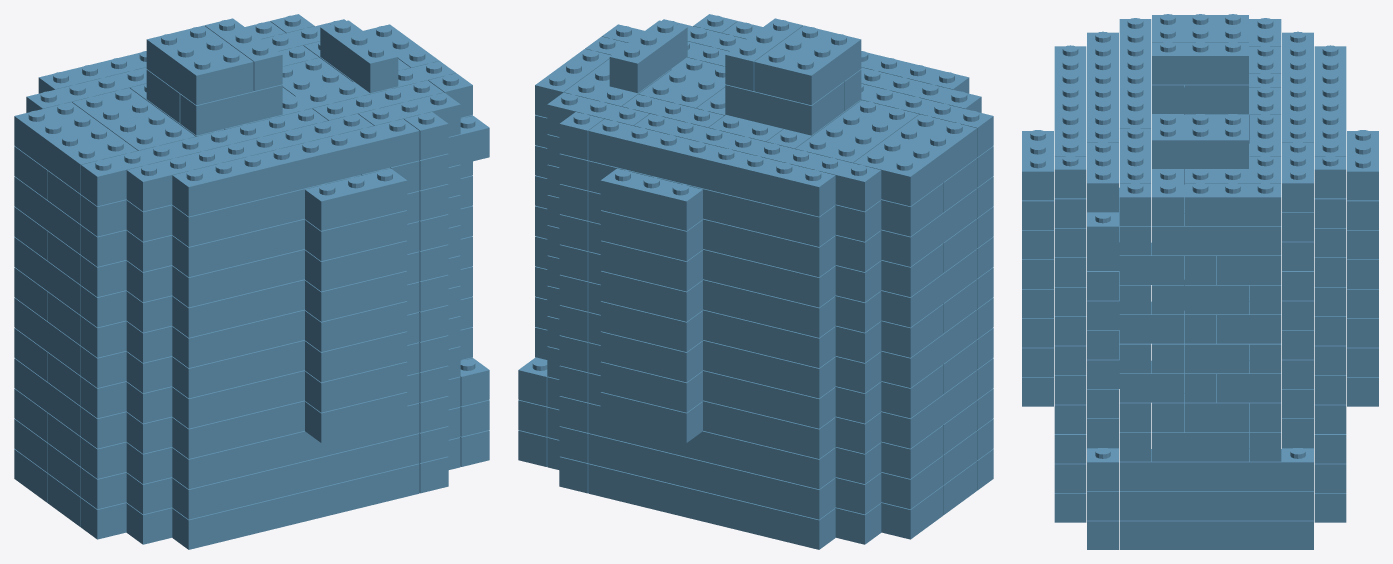
File: collab_camera-L1-C1_raw.glb
3 views of the same model, side by side, from view 1: azimuth 30°, elevation 25°; view 2: azimuth 150°, elevation 25°; view 3: azimuth 270°, elevation 25° (orthographic). The views are drawn at different scales.
Size of the model in its own units: 12.98 by 14.13 by 10.98.
